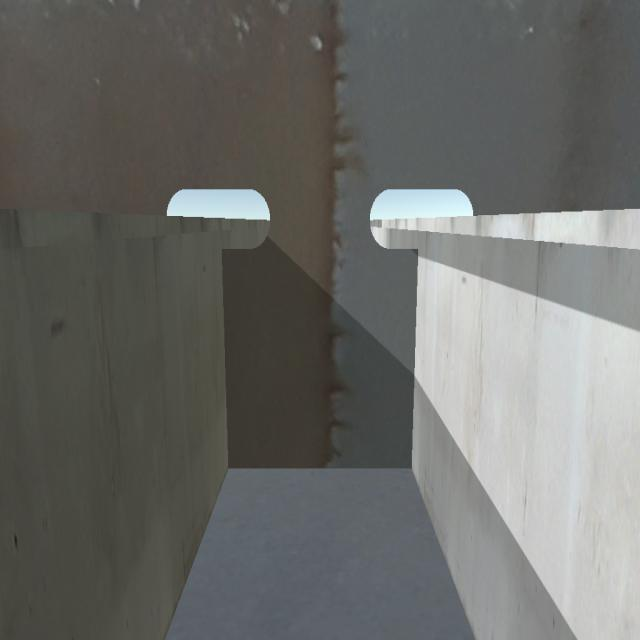fillet_yong_jeop_jang: (222, 455, 420, 480)
longi_yong_jeop_jang: (213, 246, 240, 474), (407, 244, 424, 476)
